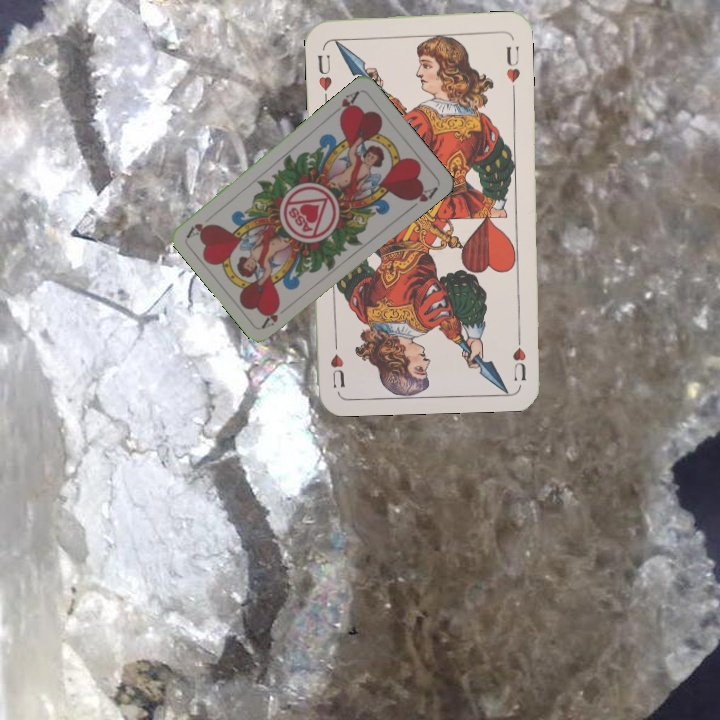HA: (329, 86, 362, 121), (258, 301, 283, 331)
HU: (509, 326, 529, 384), (314, 50, 335, 100)
